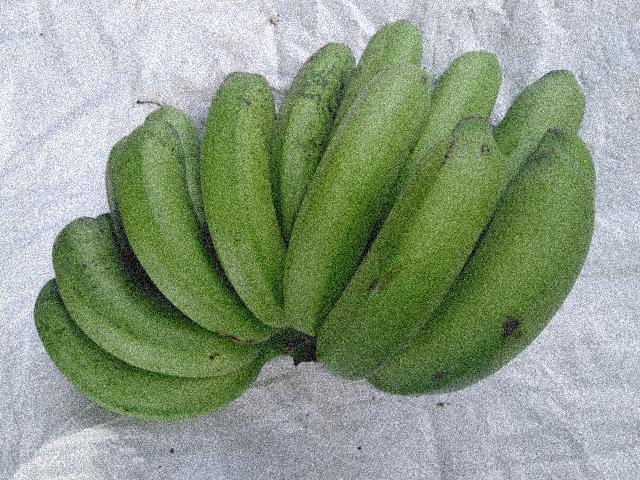freshunripe: (283, 66, 435, 325)
unripe: (309, 116, 509, 374), (421, 136, 596, 424), (25, 203, 258, 375), (104, 113, 266, 334), (32, 299, 239, 432), (211, 63, 302, 340)
